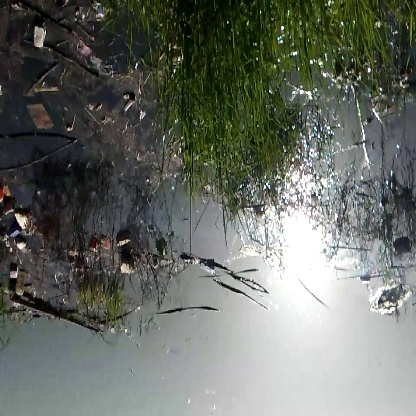branch: (9, 290, 105, 337)
